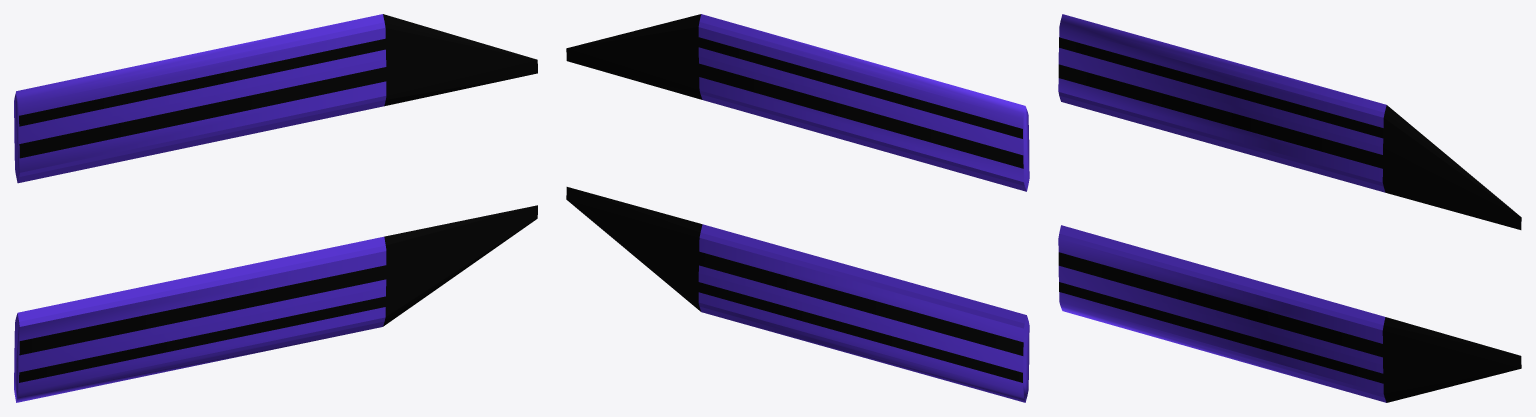
The model's file is NemAmpSwordMuzzle.fbx.
3 views of the same model, side by side, from view 1: azimuth 30°, elevation 25°; view 2: azimuth 150°, elevation 25°; view 3: azimuth 330°, elevation 25° (orthographic). The views are drawn at different scales.
Parts seen in each view (by area): view 1: Base_Mesh.001; view 2: Base_Mesh.001; view 3: Base_Mesh.001.
Boxes of the visible parts, x1,y1,x2,y2 form: Base_Mesh.001: (14, 14, 537, 402); Base_Mesh.001: (566, 14, 1029, 402); Base_Mesh.001: (1058, 14, 1521, 402).
Size of the model in its own units: 0.7351 by 0.4378 by 0.0571.
